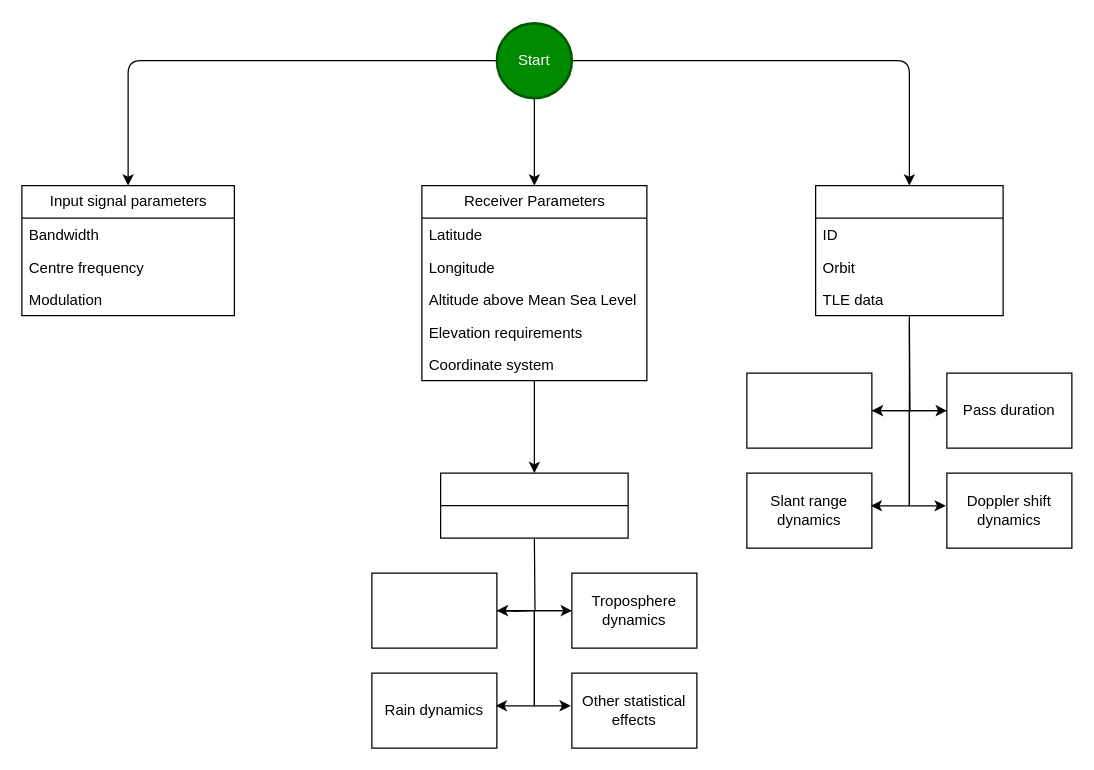
Some shapes in this 1094 by 770 pixel diagram are drawn without their labels. The shapes that lost their labels are listed below. From the top down, each one's box as (x1, y1, x2, y2) in pixels, then its label:
(814, 184, 1003, 316): Satellite Parameters
(746, 372, 872, 448): Pass time
(439, 472, 628, 538): Time of Year
(371, 572, 497, 648): Ionosphere dynamics
